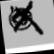not correct: (5, 0, 44, 39)
